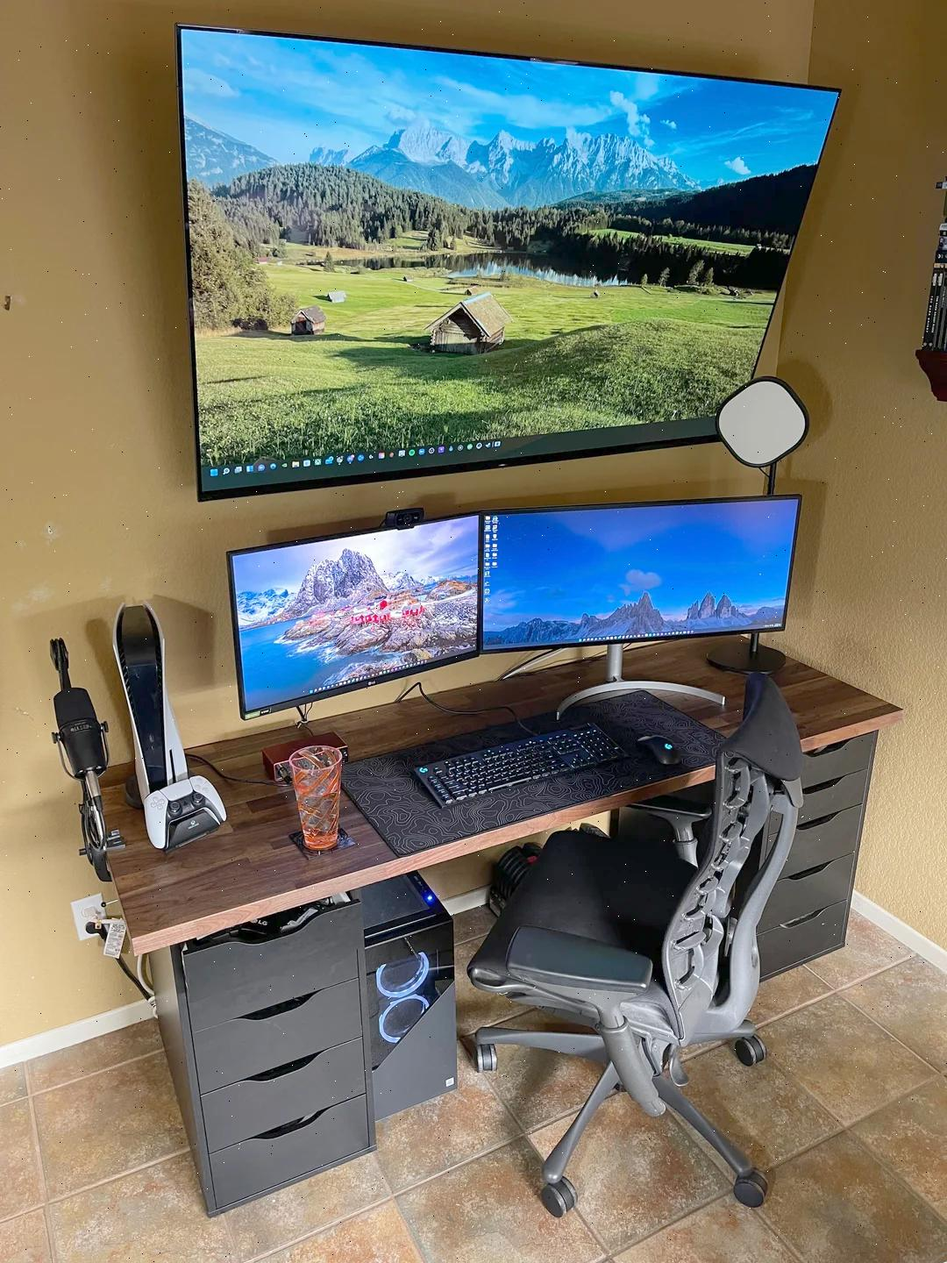keyboard: (404, 707, 639, 810)
monitor: (163, 8, 849, 513), (476, 483, 801, 659), (219, 515, 496, 712)
mouse: (628, 726, 695, 776)
pc: (306, 849, 474, 1125)
